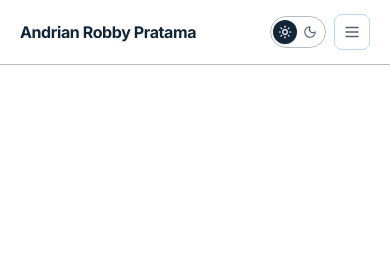
Scenario: Navbar › toggles the mobile menu
Later steps or results of the test are not shown.
Click the button named "Toggle menu" at (352, 32), box [334,14,370,50]
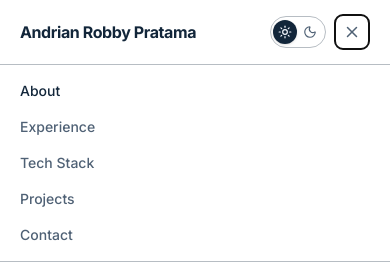
Now the navigation bar named "Mobile navigation" is shown
